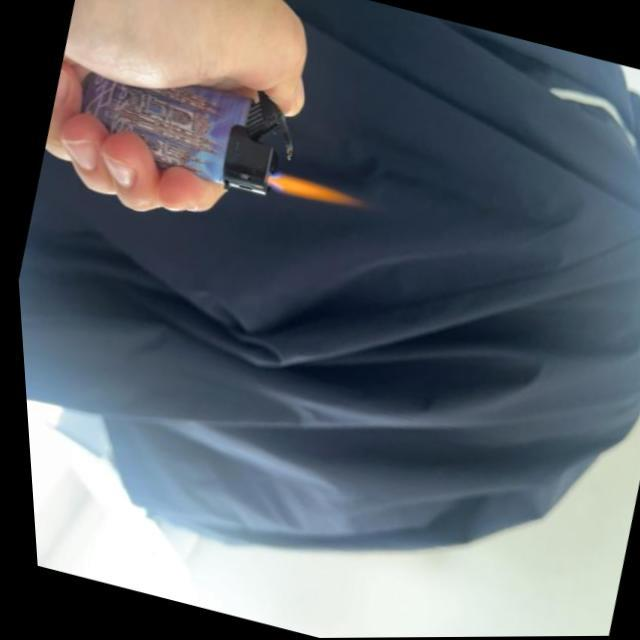fire: (270, 166, 358, 212)
